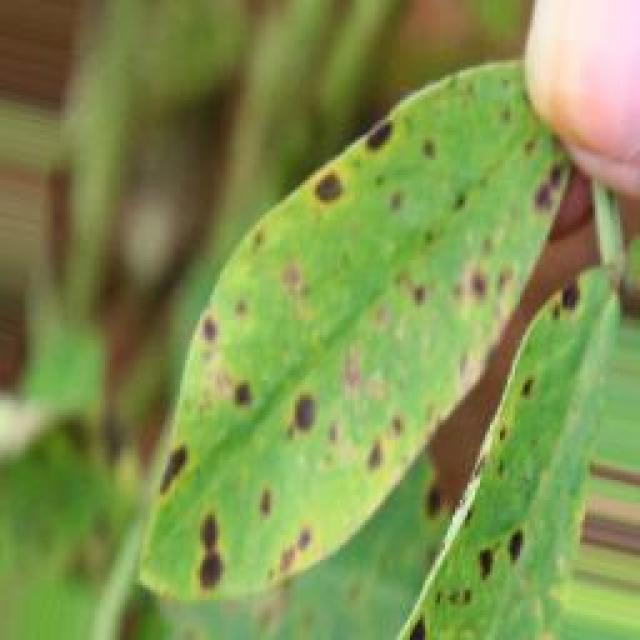Yellowish: (88, 40, 585, 640)
